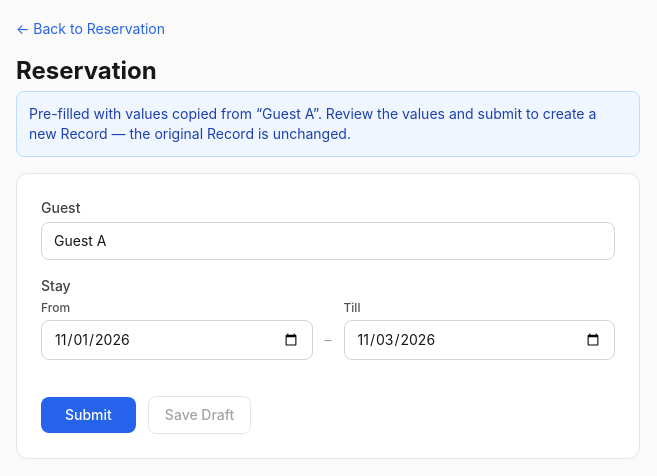
it: Module Form — copy prefill › pre-fills values from a copied record and explains that a new Record is created
The width and height of the screenshot is (657, 476).
Expected: the text "Pre-filled with values copied from “Guest A”" is shown, [16,91,640,157]
Replace the text in the field labelled "Guest" with "Guest B" at (328, 241), box [41,222,615,260]
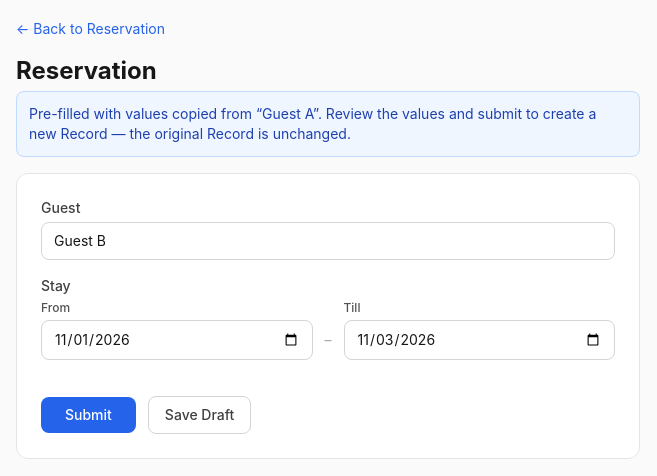
Click the button "Submit".
click(88, 415)  # box [41,397,136,433]
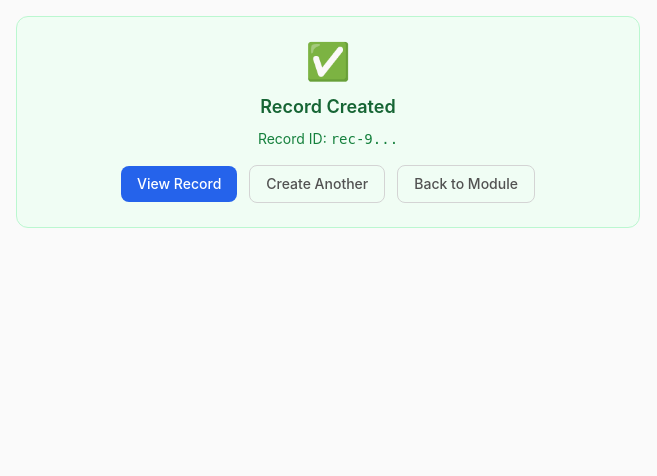
Expected: the heading "Record Created" is shown, [260,96,396,117]
